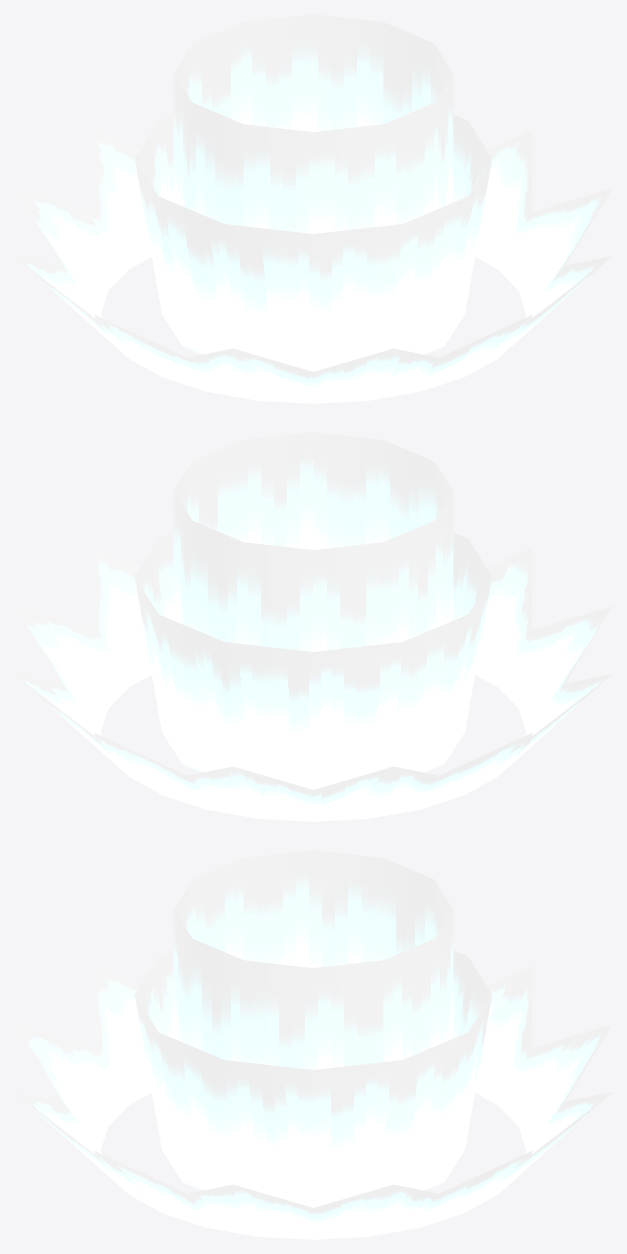
File: a_SWAantique03c.glb
3 views of the same model, one above another, from view 1: azimuth 30°, elevation 25°; view 2: azimuth 150°, elevation 25°; view 3: azimuth 270°, elevation 25° (orthographic).
Visible parts, largest first — view 1: a_SWAantique03c_obj3, a_SWAantique03c_obj4, a_SWAantique03c; view 2: a_SWAantique03c_obj3, a_SWAantique03c_obj4, a_SWAantique03c; view 3: a_SWAantique03c_obj3, a_SWAantique03c_obj4, a_SWAantique03c.
Part boxes in pixels (bbox=[...]): a_SWAantique03c_obj3: bbox=[173, 14, 453, 233]; a_SWAantique03c_obj4: bbox=[134, 114, 492, 371]; a_SWAantique03c: bbox=[14, 129, 612, 403]; a_SWAantique03c_obj3: bbox=[173, 432, 453, 651]; a_SWAantique03c_obj4: bbox=[134, 532, 492, 789]; a_SWAantique03c: bbox=[14, 547, 612, 821]; a_SWAantique03c_obj3: bbox=[173, 850, 453, 1069]; a_SWAantique03c_obj4: bbox=[134, 950, 492, 1207]; a_SWAantique03c: bbox=[14, 965, 612, 1239].
Size of the model in its own units: 3.39 by 1.5 by 3.39.
Materials: 4 (4 with a texture image).
